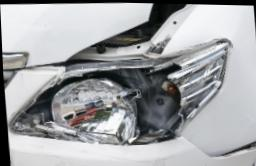Bonnet: (0, 0, 209, 56)
Light: (7, 53, 227, 146)
